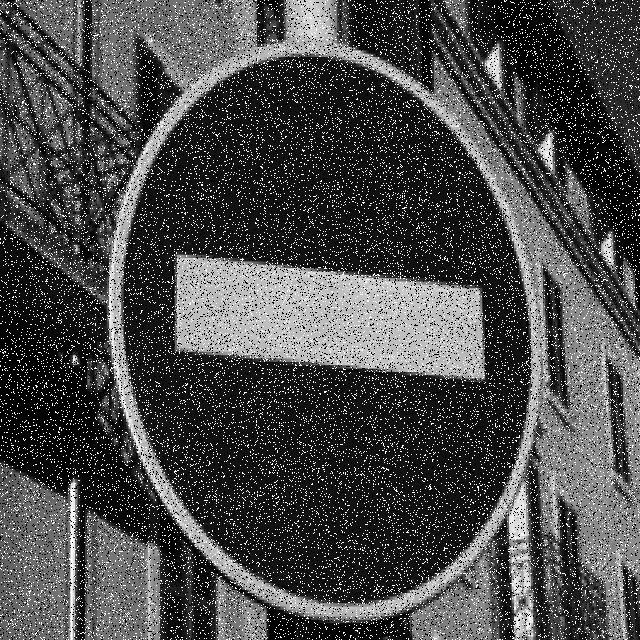no entry: (124, 54, 531, 596)
